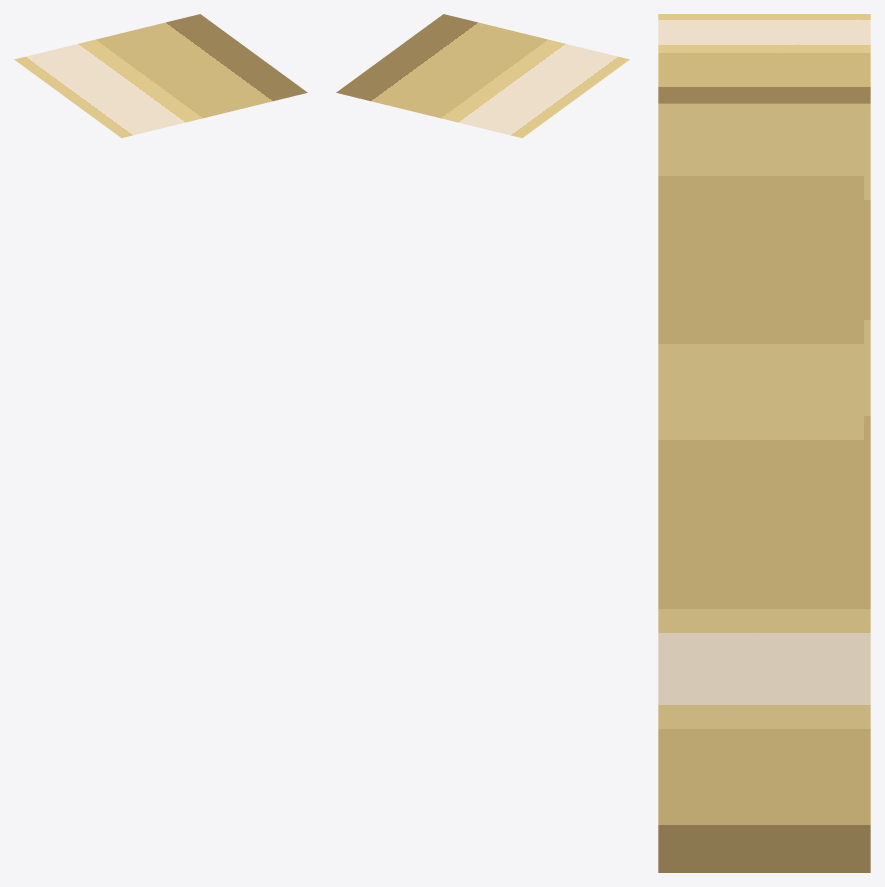
The picture shows the model from 3 angles, left to right: view 1: azimuth 30°, elevation 25°; view 2: azimuth 150°, elevation 25°; view 3: azimuth 270°, elevation 25°; orthographic projection.
Bounding box in the file's own units: 1 × 4 × 1.
1 material, 1 textured.
